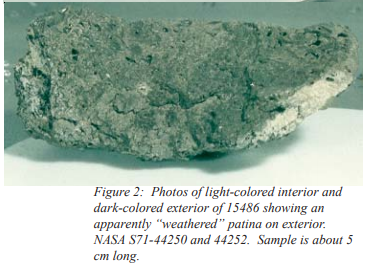Basalt: (4, 3, 363, 162)
